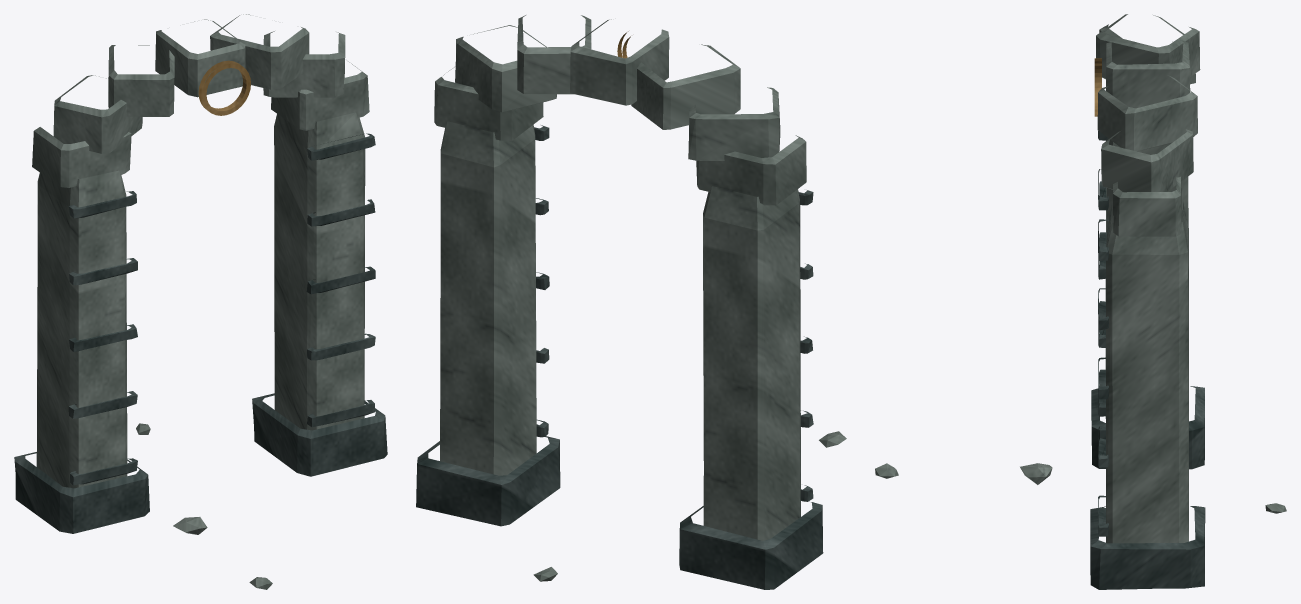
The model's file is 0321_archway_21.glb.
The picture shows the model from 3 angles, left to right: view 1: azimuth 30°, elevation 25°; view 2: azimuth 150°, elevation 25°; view 3: azimuth 270°, elevation 25°; orthographic projection. The views are drawn at different scales.
Visible parts, largest first — view 1: stone, stone_dark, brass; view 2: stone, stone_dark; view 3: stone, stone_dark.
Part boxes in pixels (x1,y1,x2,y2): stone: (32,14,369,589); stone_dark: (14,133,387,533); brass: (198,60,250,115); stone: (434,15,846,581); stone_dark: (416,125,823,589); stone: (875,14,1286,543); stone_dark: (1090,130,1205,589).
Bounding box in the file's own units: 2.92 × 3.82 × 3.1.
3 materials, 3 textured.
